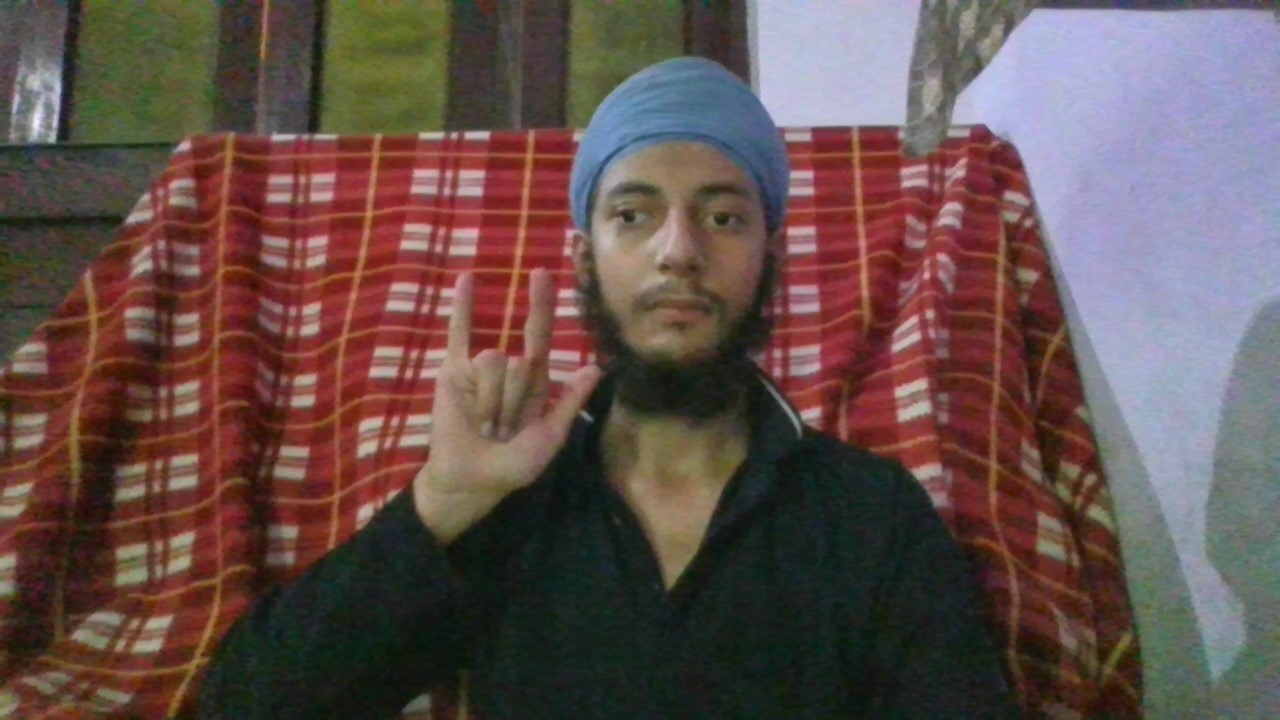I Love You: (427, 266, 605, 504)
